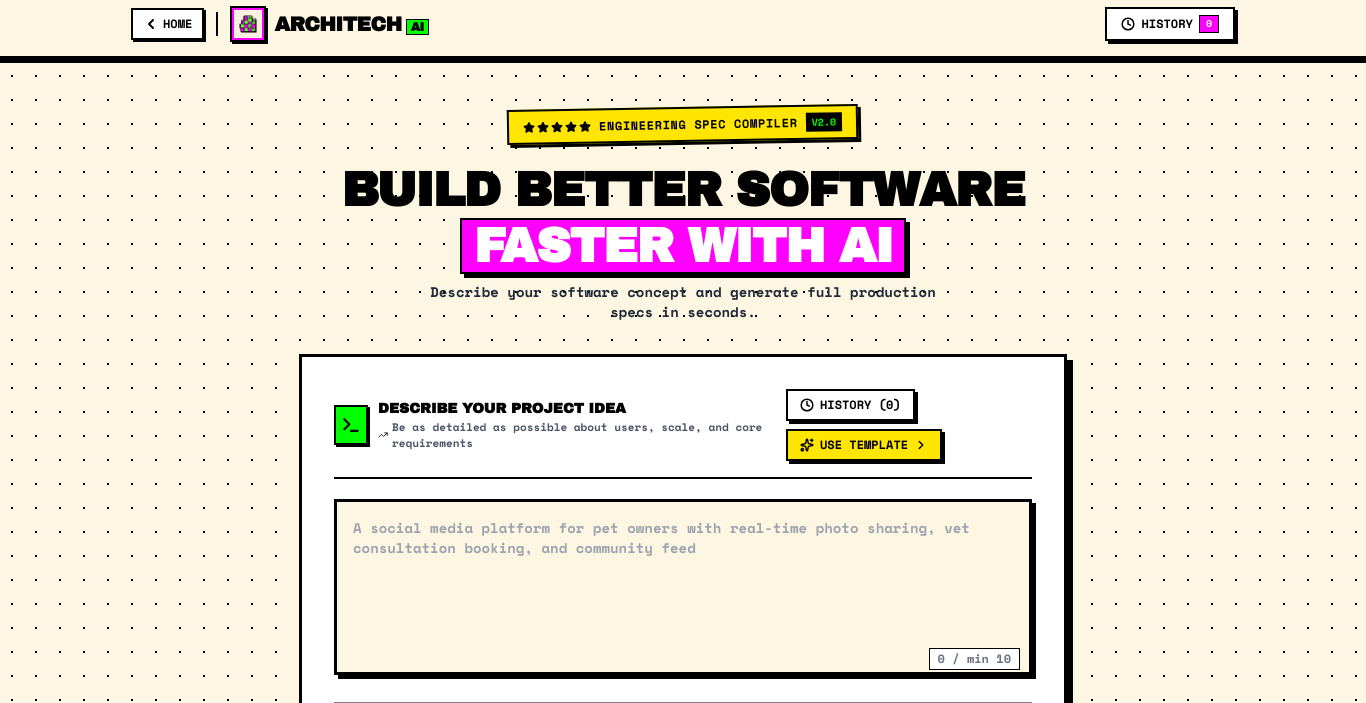
Test: Home Page - Project Idea Input › Error Handling › should display rate limit error
Step 1. Replace the text in the text box with placeholder "social media platform" with "A valid project idea with enough characters" → point(683, 587), box 334,499 -> 1032,675
(page scrolled)
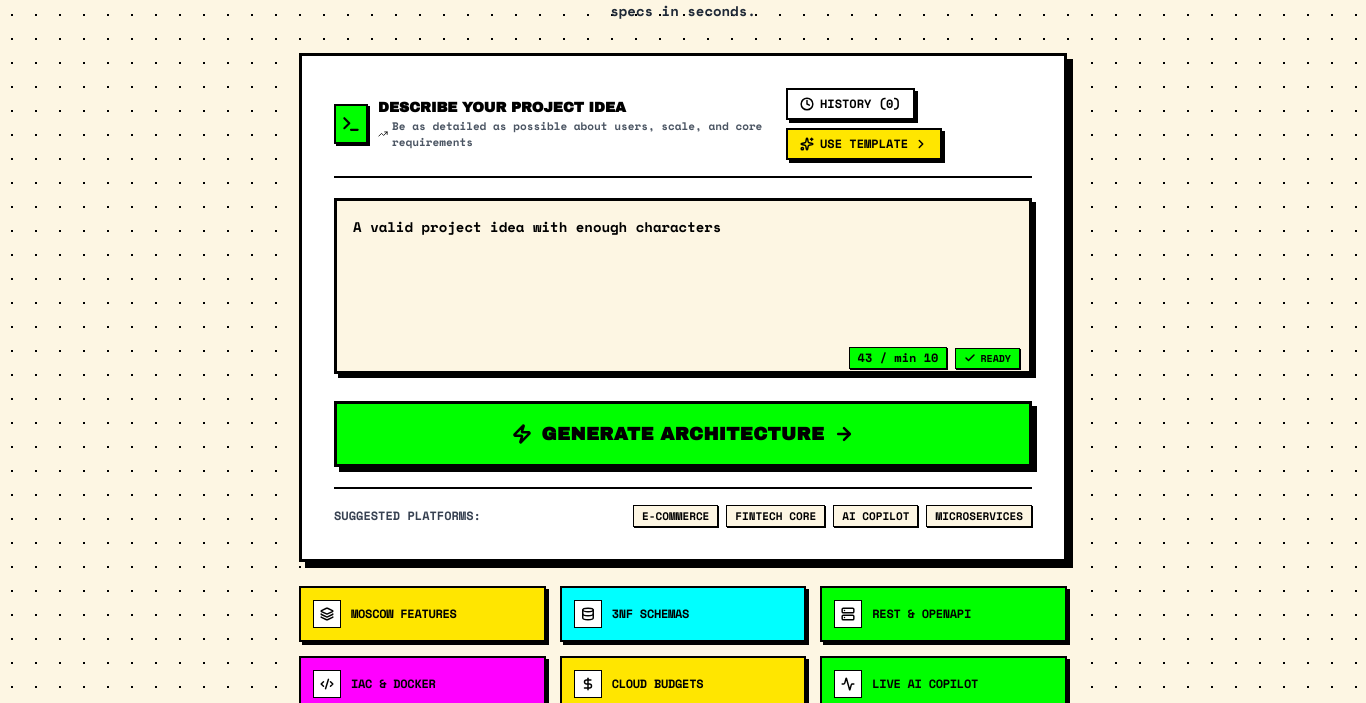
Step 2. Click the button "GENERATE ARCHITECTURE" → point(683, 434), box 334,401 -> 1032,467
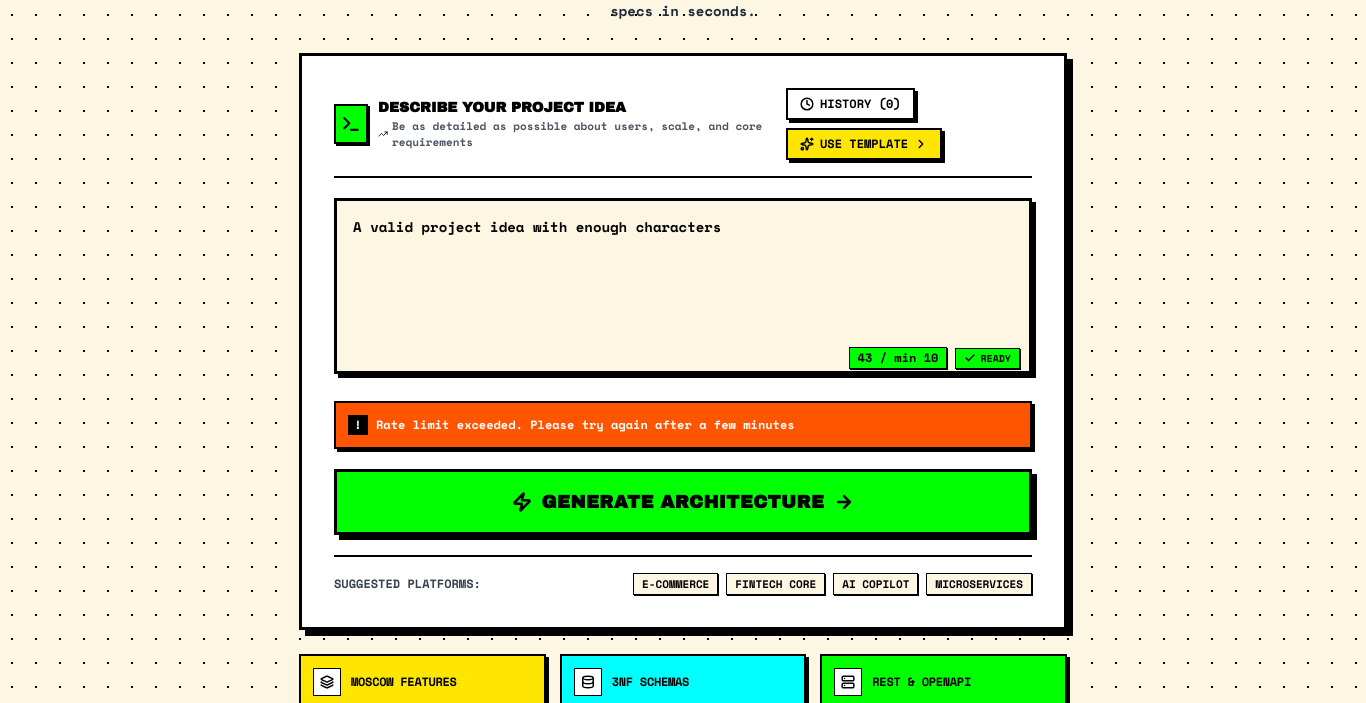
Now the text "! Rate limit exceeded. Please try again after a few minutes" is shown, box 334,401 -> 1032,449
